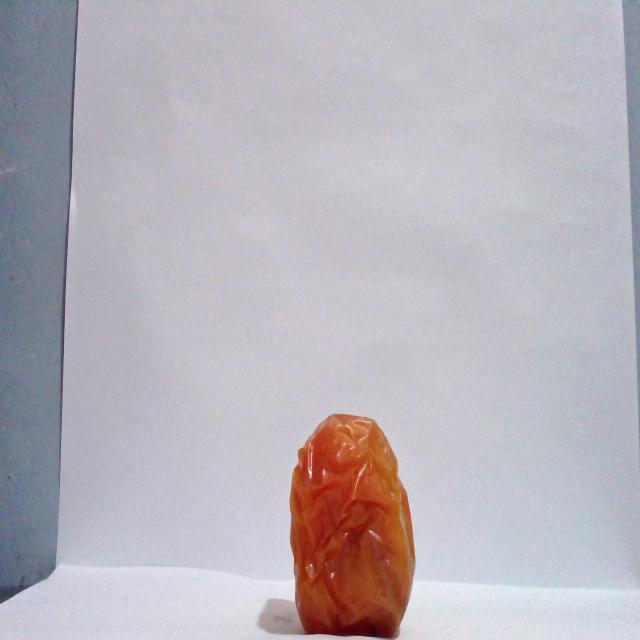Red: (287, 411, 416, 637)
